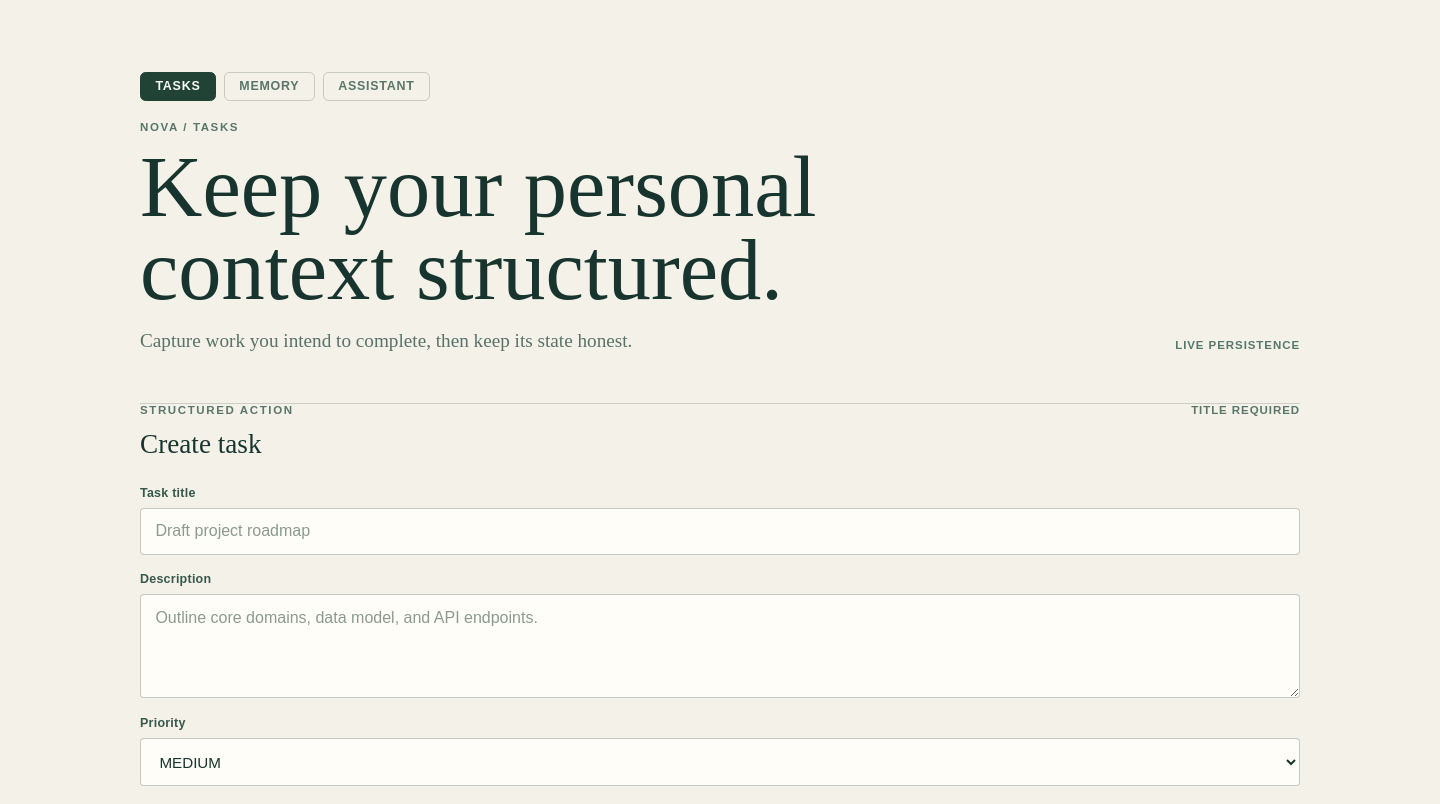
Scenario: task workspace › creates, lists, and deletes a memory through the API
Click the button "Memory": (269, 86) [224,72,315,101]
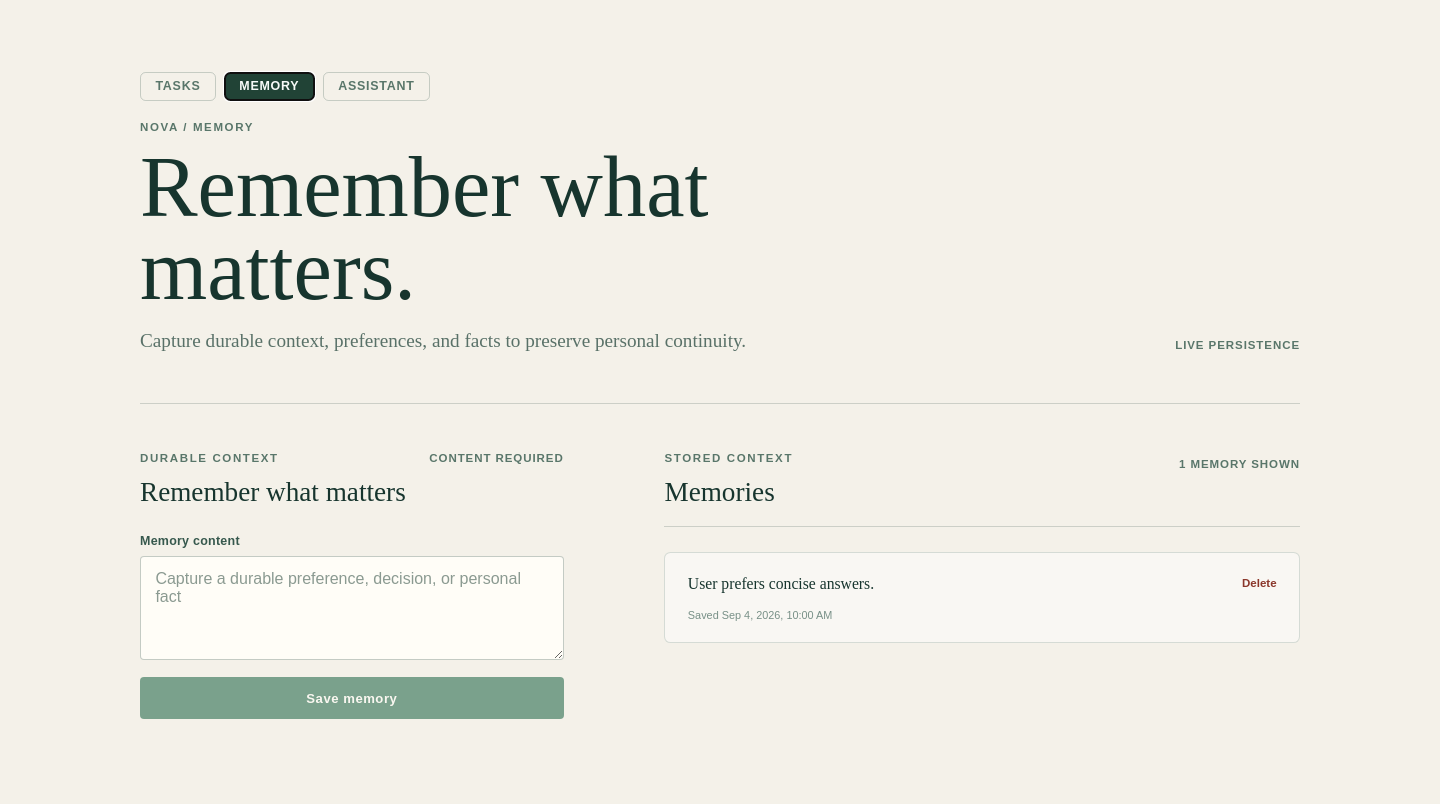
Check: the text "User prefers concise answers." is shown, box [688,576,874,592]
In the text box labelled "Memory content": (352, 608) [140,556,564,660], type "Prefers dark mode."
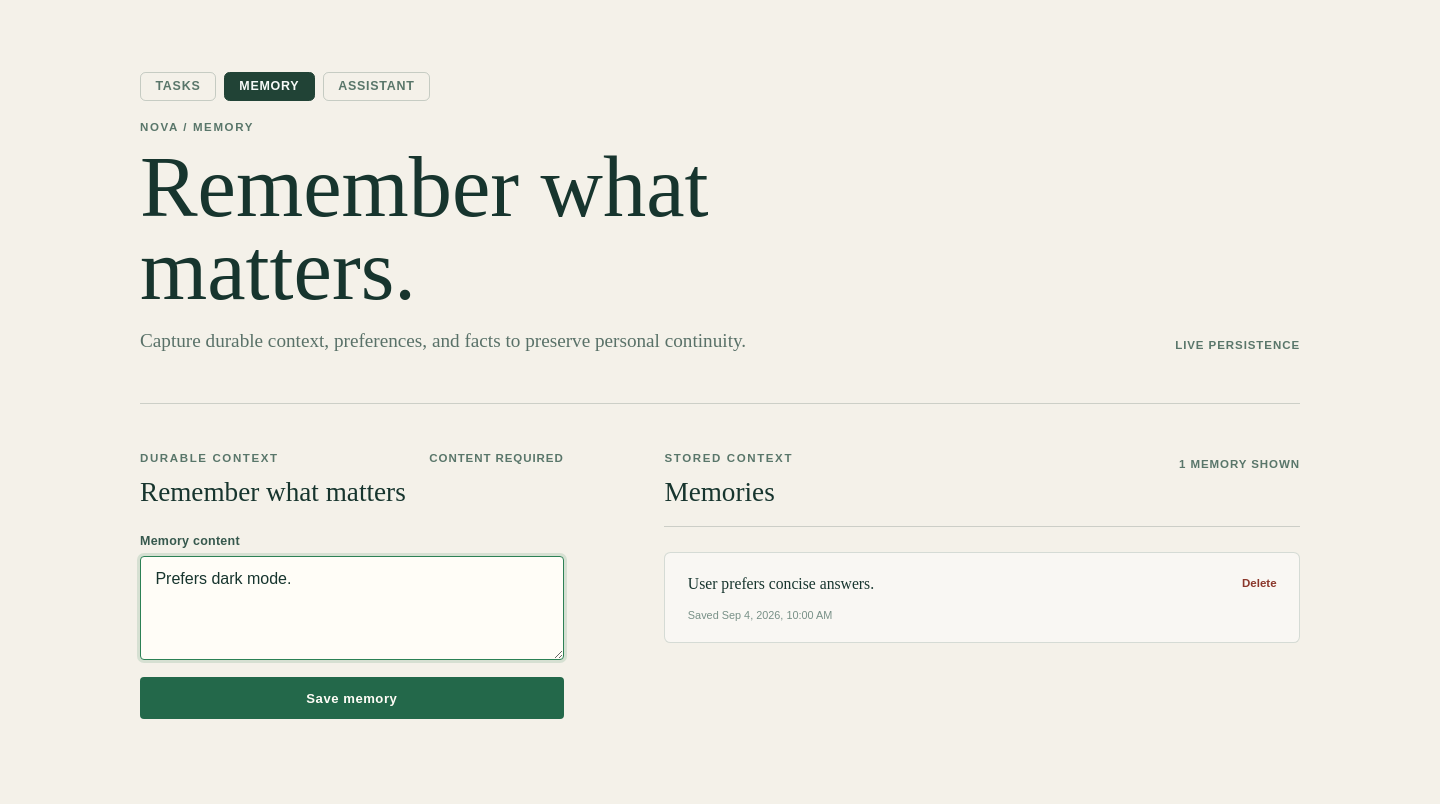
Click the button "Save memory": (352, 698) [140,677,564,720]
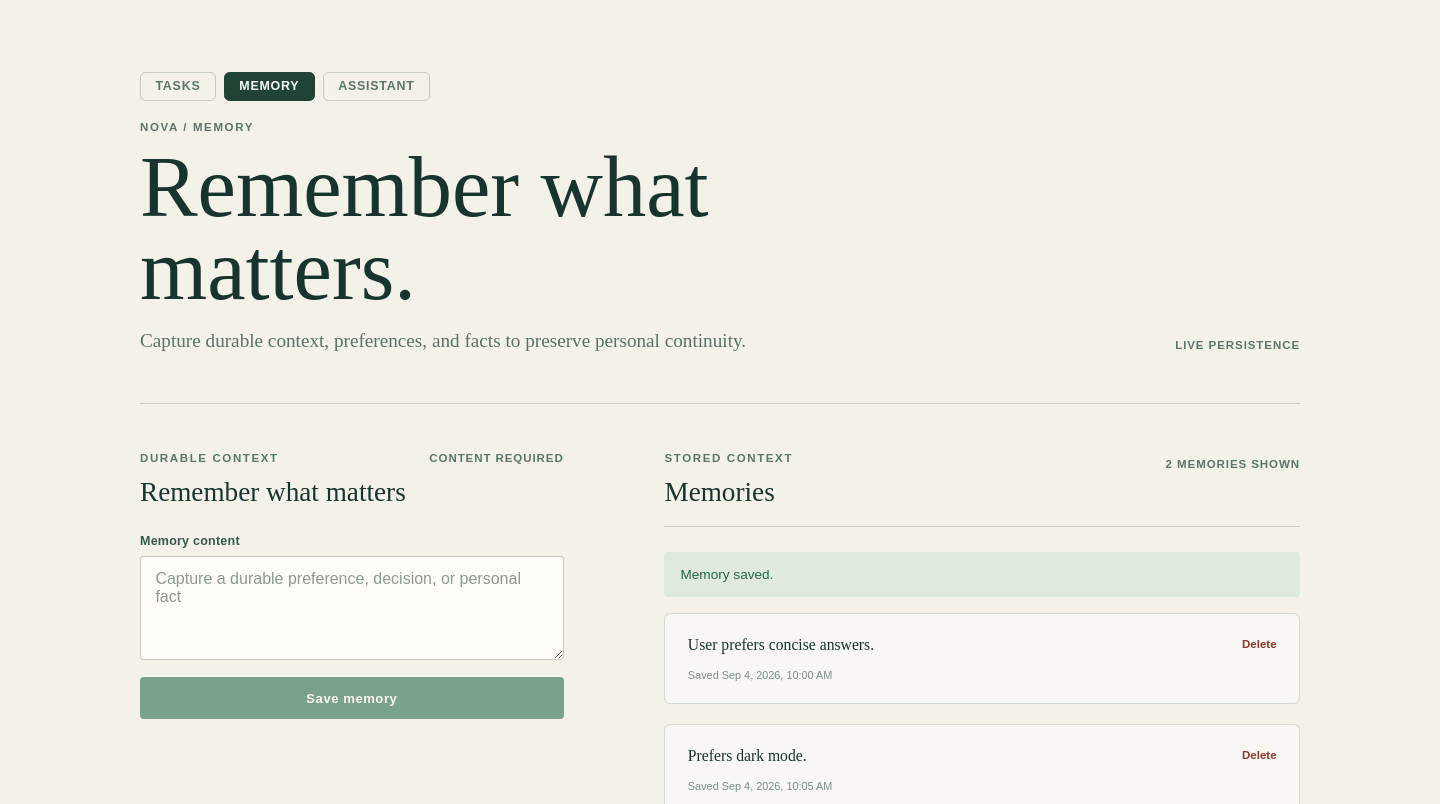
Check: the text "Memory saved." is shown, box [664,552,1300,597]
Check: the text "Prefers dark mode." is shown, box [688,747,807,764]
Click the button with aria-label "Delete memory: User prefers concise answers.": (1259, 644) [1242,633,1277,655]
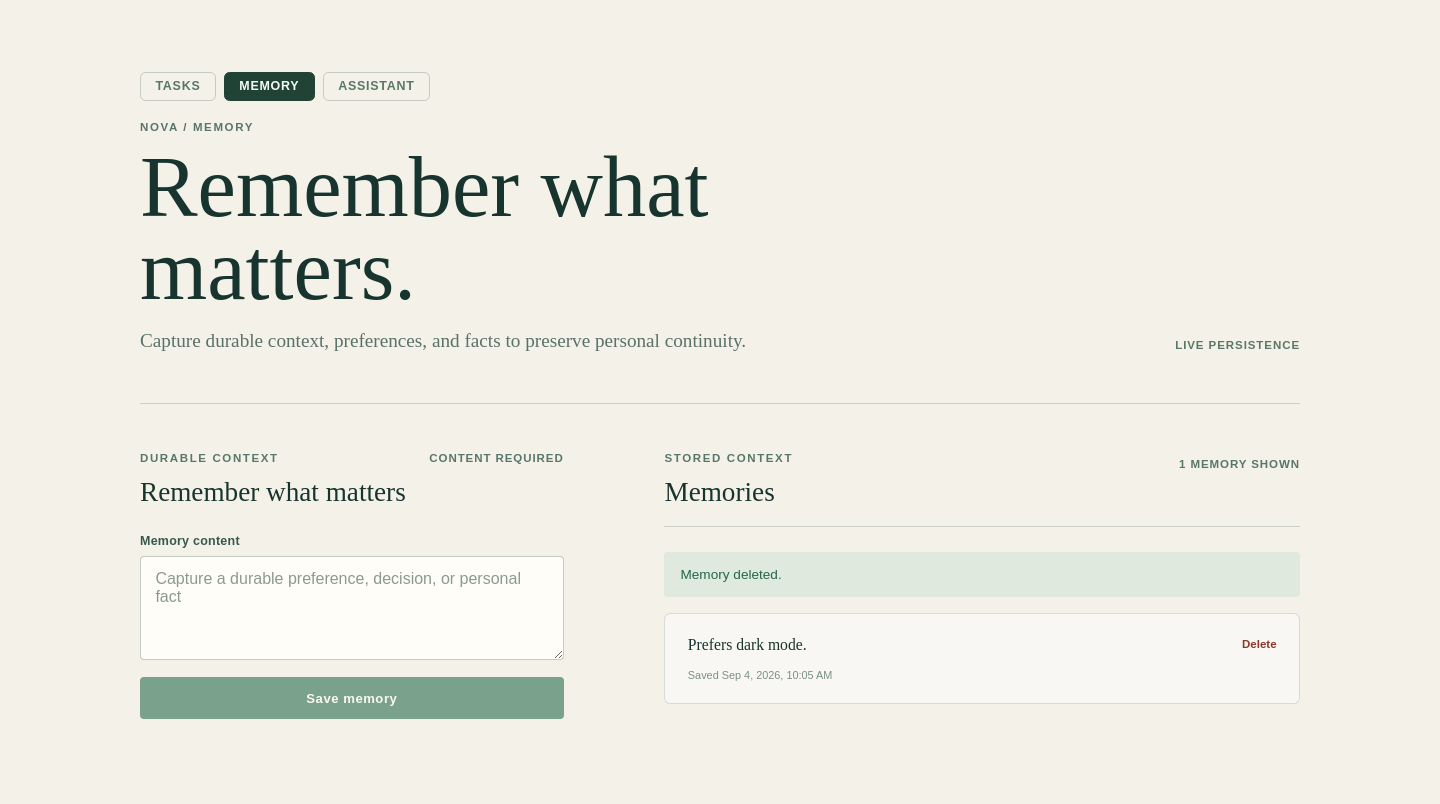
Check: the text "Memory deleted." is shown, box [664,552,1300,597]
Check: the text "User prefers concise answers." is gone
